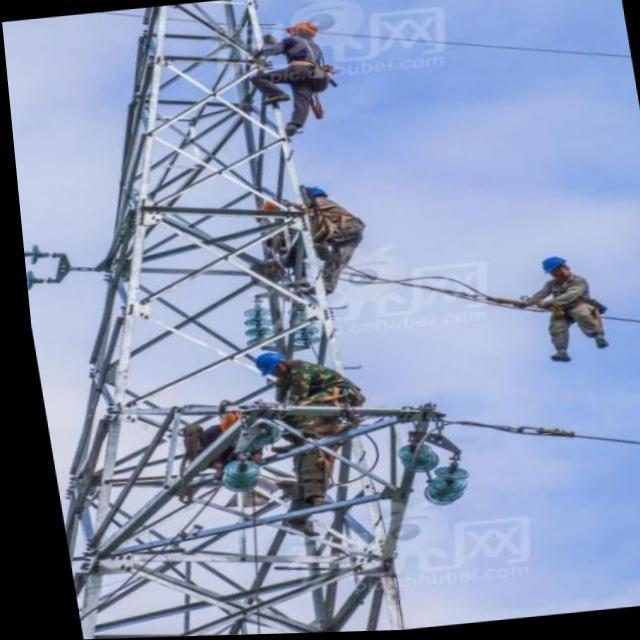belt: (282, 53, 341, 123)
